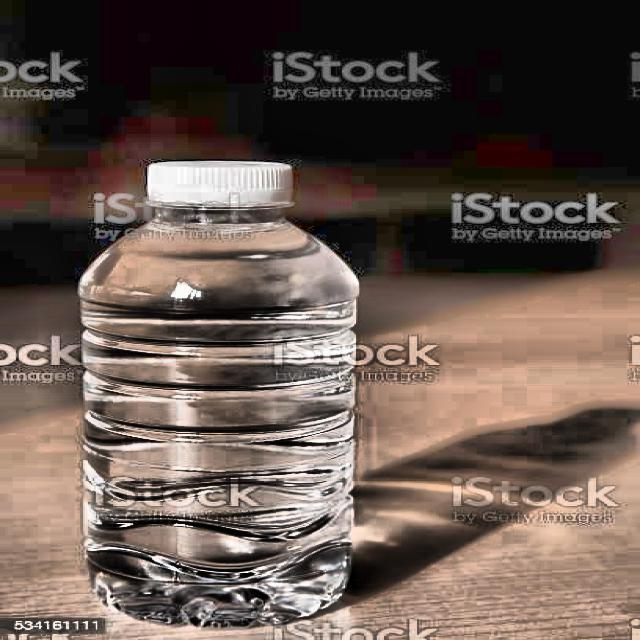Bottles: (67, 153, 380, 626)
